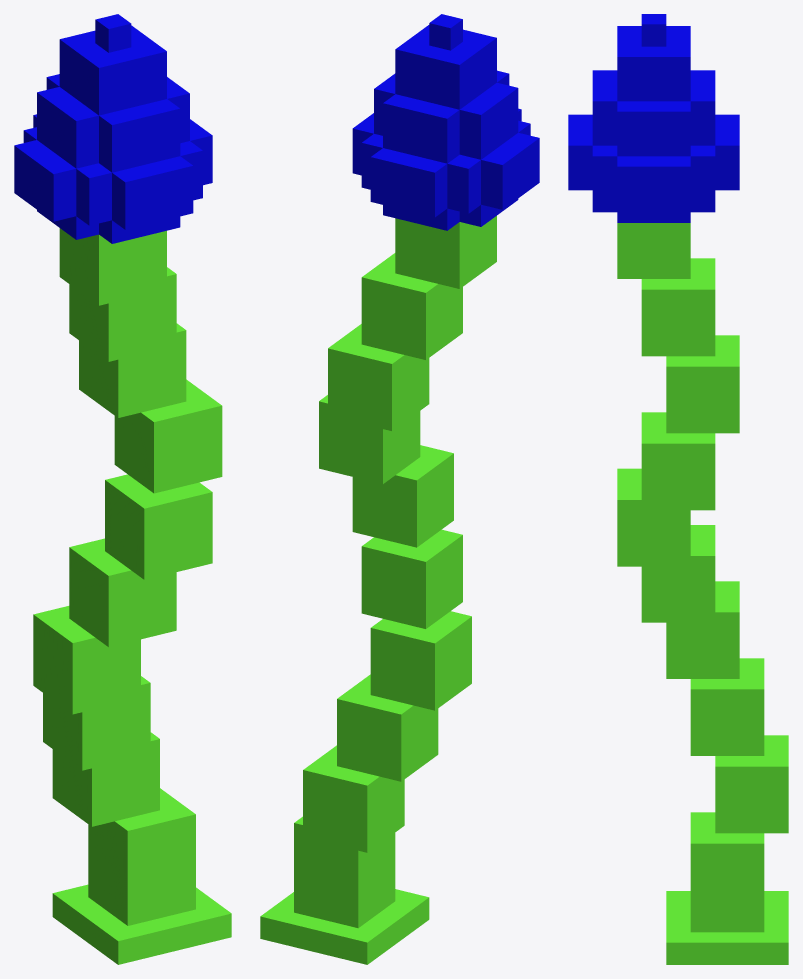
File: Plant4.dae
3 renders of one model, left to right at view 1: azimuth 30°, elevation 25°; view 2: azimuth 150°, elevation 25°; view 3: azimuth 270°, elevation 25°, orthographic. The views are drawn at different scales.
Visible parts, largest first — view 1: plant4.skinnyplant4; view 2: plant4.skinnyplant4; view 3: plant4.skinnyplant4.
Part boxes in pixels (x1,y1,x2,y2): plant4.skinnyplant4: (14, 14, 231, 964); plant4.skinnyplant4: (260, 14, 539, 964); plant4.skinnyplant4: (568, 14, 788, 964).
Size of the model in its own units: 0.9 by 4 by 0.9.
Materials: 1 (1 with a texture image).
